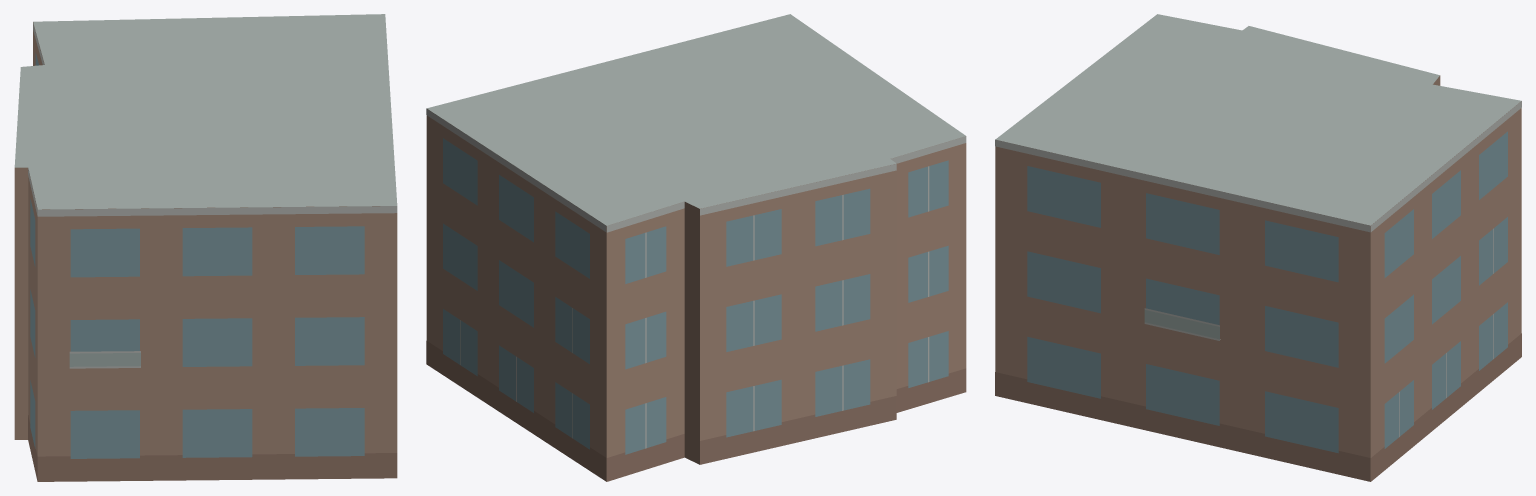
The model's file is survey-upis-33033926.glb.
The picture shows the model from 3 angles, left to right: view 1: azimuth 30°, elevation 25°; view 2: azimuth 150°, elevation 25°; view 3: azimuth 270°, elevation 25°; orthographic projection. The views are drawn at different scales.
Visible parts, largest first — view 1: survey-upis-33033926.tmp; view 2: survey-upis-33033926.tmp; view 3: survey-upis-33033926.tmp.
Boxes of the visible parts, bbox=[...] form: survey-upis-33033926.tmp: bbox=[14, 14, 397, 481]; survey-upis-33033926.tmp: bbox=[426, 14, 966, 481]; survey-upis-33033926.tmp: bbox=[995, 14, 1521, 481].
Bounding box in the file's own units: 16.21 × 9.15 × 17.05.
